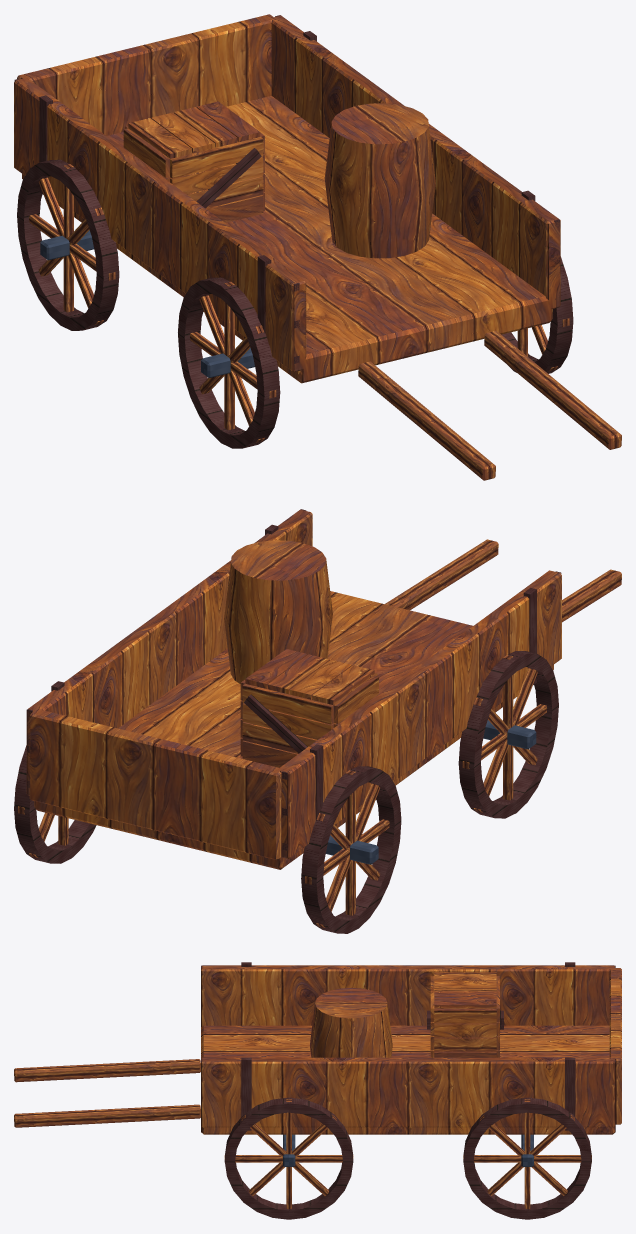
File: Merchant_Wagon.fbx
3 views of the same model, one above another, from view 1: azimuth 30°, elevation 25°; view 2: azimuth 150°, elevation 25°; view 3: azimuth 270°, elevation 25° (orthographic). The views are drawn at different scales.
Parts seen in each view (by area): view 1: Wagon bed.002, Wagon left side.002, Wagon right side.002, Wagon tail.002, Cargo barrel.001, Wagon wheel.008, Wagon wheel.006, Draw shaft.004, Draw shaft.005, Wagon wheel.007, Crate long side board.038, Crate long side board.036 (+18 smaller); view 2: Wagon tail.002, Wagon left side.002, Wagon bed.002, Wagon right side.002, Cargo barrel.001, Wagon wheel.008, Wagon wheel.006, Wagon wheel.009, Draw shaft.005, Crate long side board.039, Draw shaft.004, Crate long side board.037 (+17 smaller); view 3: Wagon right side.002, Wagon left side.002, Wagon bed.002, Cargo barrel.001, Wagon wheel.009, Wagon wheel.007, Draw shaft.005, Draw shaft.004, Wagon tail.002, Crate short side board.039, Crate short side board.035, Crate short side board.037 (+15 smaller).
Boxes of the visible parts, <box> form: Wagon bed.002: <box>22,96,552,383</box>; Wagon left side.002: <box>14,77,306,372</box>; Wagon right side.002: <box>270,15,560,308</box>; Wagon tail.002: <box>17,14,275,135</box>; Cargo barrel.001: <box>324,103,435,258</box>; Wagon wheel.008: <box>17,159,119,330</box>; Wagon wheel.006: <box>178,277,280,448</box>; Draw shaft.004: <box>358,361,495,480</box>; Draw shaft.005: <box>484,330,621,449</box>; Wagon wheel.007: <box>501,256,573,373</box>; Crate long side board.038: <box>168,137,263,178</box>; Crate long side board.036: <box>170,157,263,194</box>; Wagon tail.002: <box>29,709,281,860</box>; Wagon left side.002: <box>277,570,561,858</box>; Wagon bed.002: <box>34,591,553,869</box>; Wagon right side.002: <box>26,509,312,795</box>; Cargo barrel.001: <box>224,540,332,683</box>; Wagon wheel.008: <box>301,766,401,933</box>; Wagon wheel.006: <box>458,651,558,818</box>; Wagon wheel.009: <box>14,745,96,863</box>; Draw shaft.005: <box>385,539,498,610</box>; Crate long side board.039: <box>242,683,335,724</box>; Draw shaft.004: <box>562,569,621,622</box>; Crate long side board.037: <box>242,703,334,739</box>; Wagon right side.002: <box>201,1057,615,1127</box>; Wagon left side.002: <box>201,965,614,1026</box>; Wagon bed.002: <box>201,1025,615,1134</box>; Cargo barrel.001: <box>310,987,392,1057</box>; Wagon wheel.009: <box>463,1097,591,1219</box>; Wagon wheel.007: <box>224,1097,353,1219</box>; Draw shaft.005: <box>14,1104,200,1127</box>; Draw shaft.004: <box>14,1059,200,1082</box>; Wagon tail.002: <box>609,968,621,1124</box>; Crate short side board.039: <box>434,1008,496,1023</box>; Crate short side board.035: <box>434,1037,496,1051</box>; Crate short side board.037: <box>434,1023,496,1037</box>.
Bounding box in the file's own units: 270 × 189 × 586.
